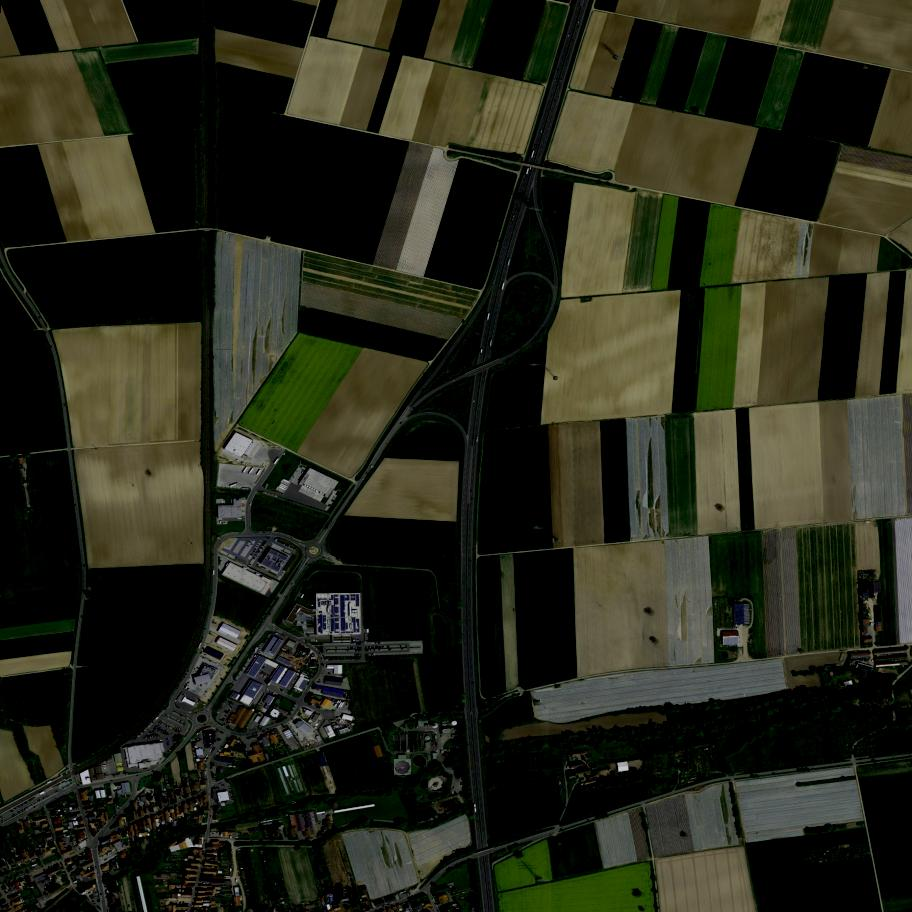storage-tank: (429, 776, 447, 793), (394, 760, 412, 777), (414, 754, 429, 767)
